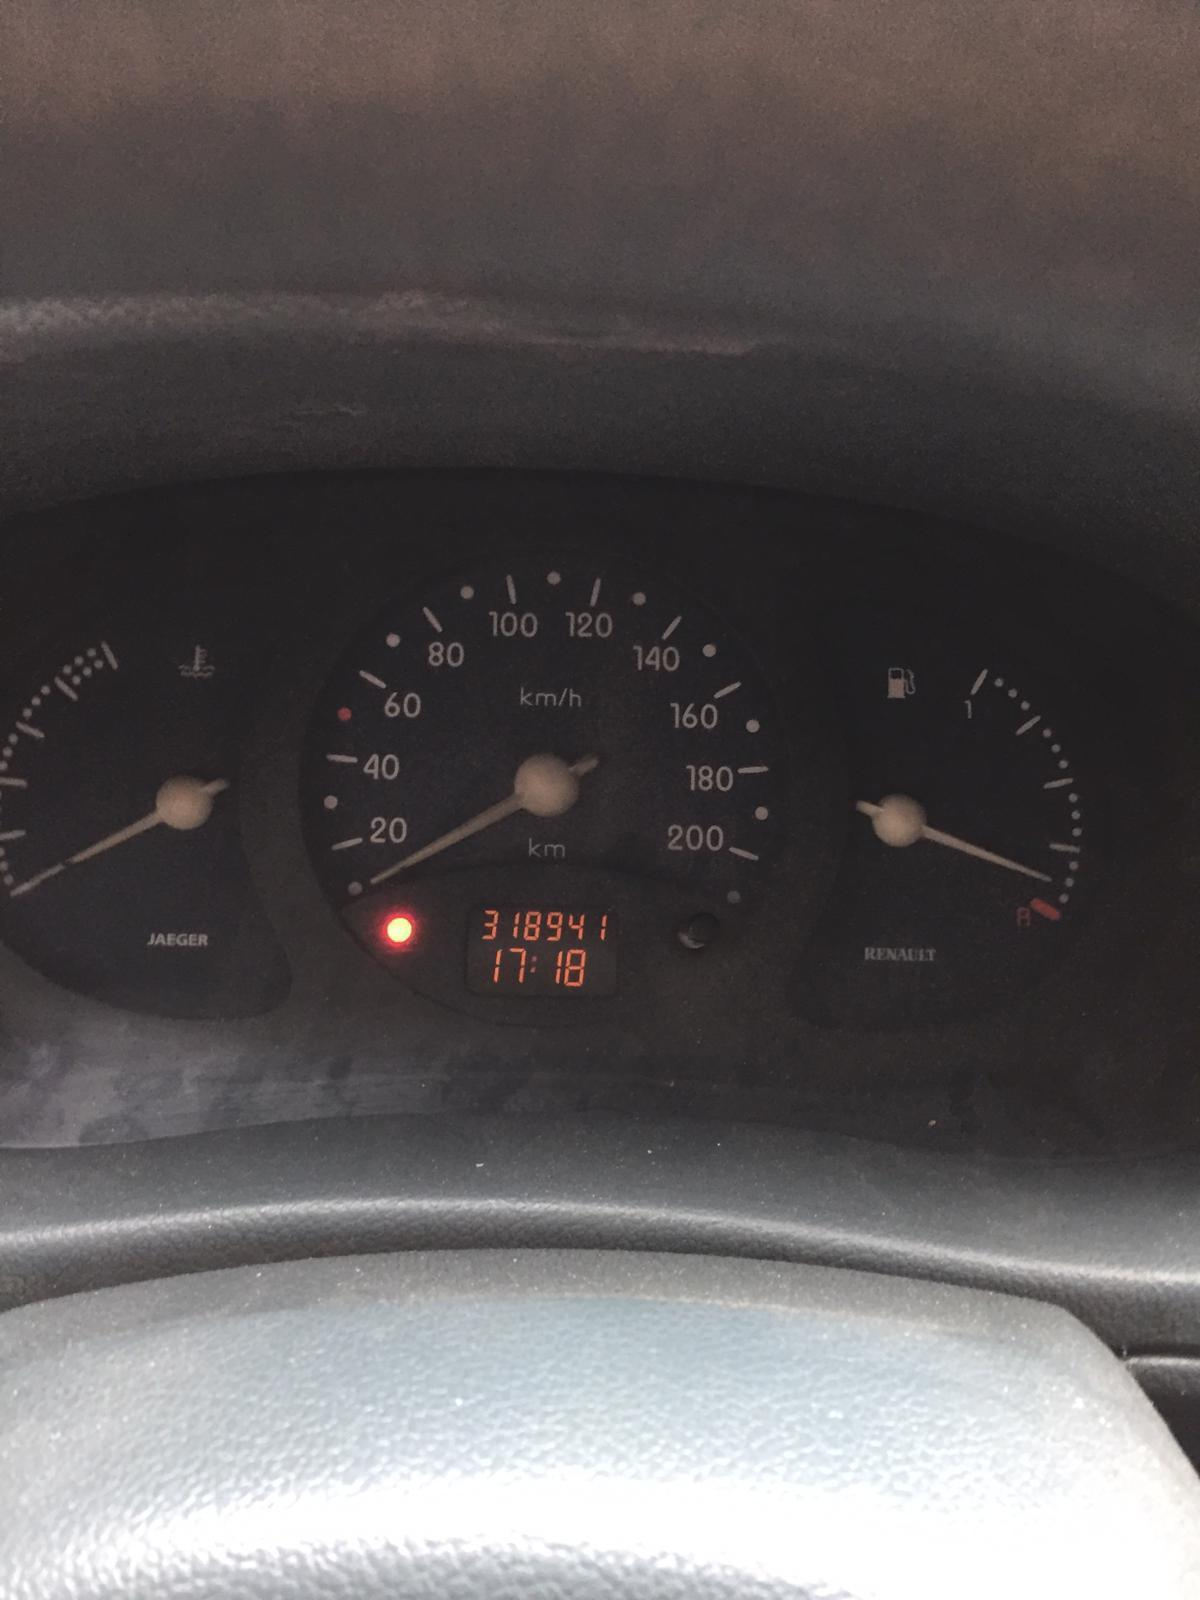1: (492, 949, 502, 984), (555, 950, 563, 984), (512, 910, 521, 939), (599, 913, 608, 940)
3: (482, 910, 500, 940)
4: (567, 913, 585, 940)
7: (508, 947, 527, 984)
8: (563, 947, 586, 986), (523, 910, 542, 941)
9: (546, 911, 563, 941)
X: (528, 955, 537, 973)
odometer: (461, 901, 628, 1002)
